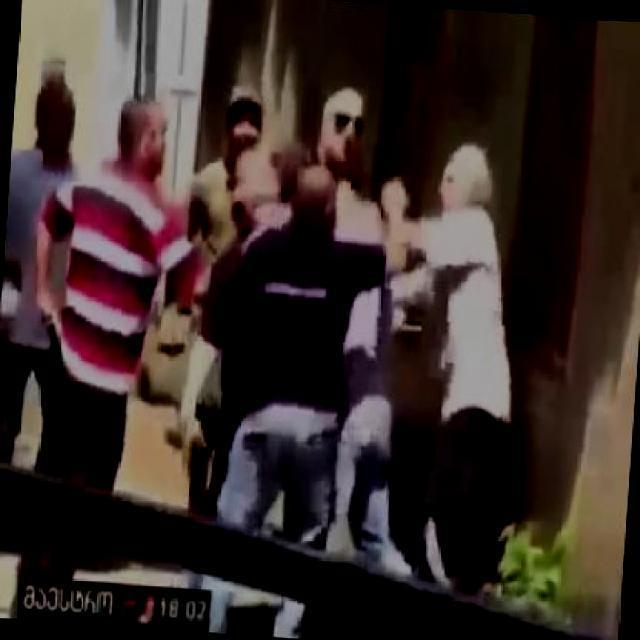fight: (206, 130, 500, 395)
